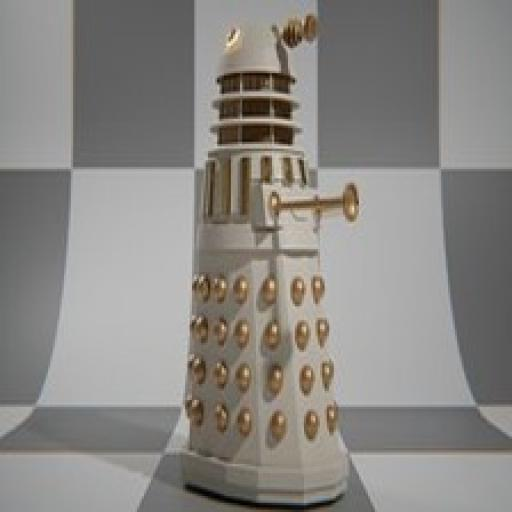dalek: (172, 14, 362, 512)
